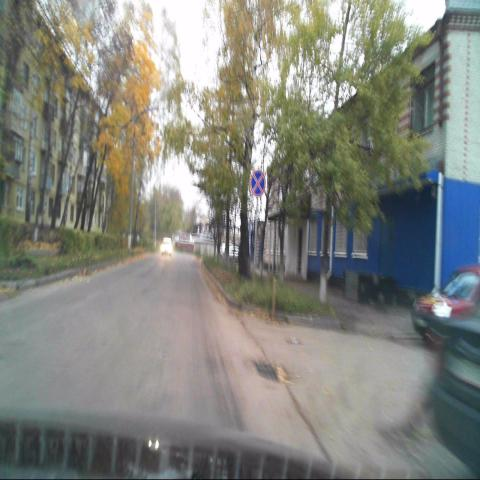3_27: (250, 168, 266, 196)
